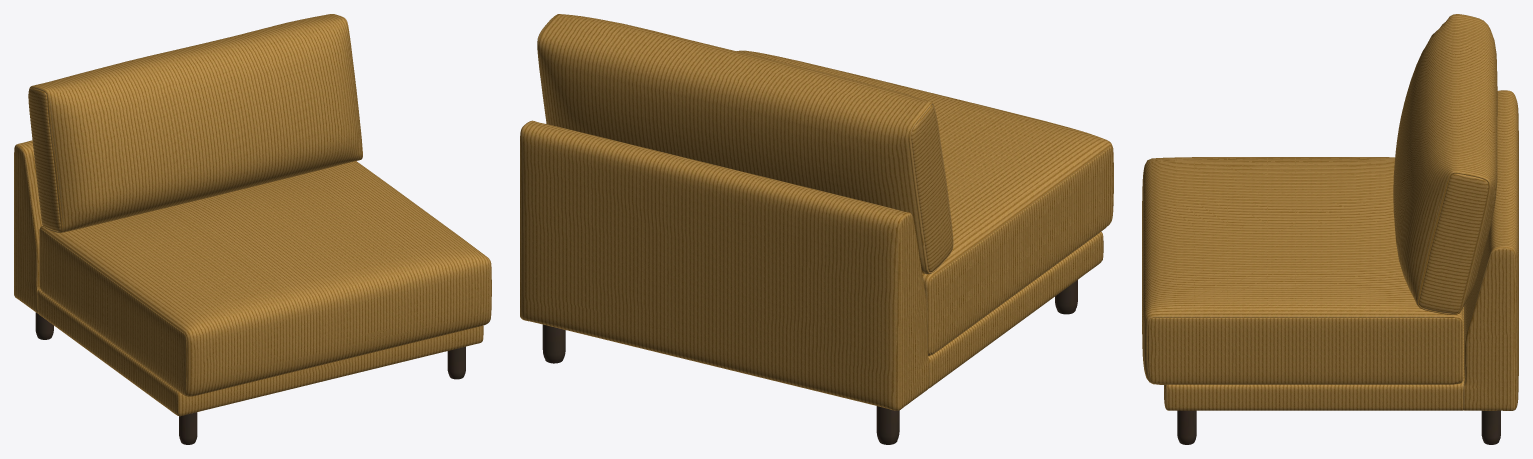
File: 15 - UPPÅKRA 1.5-seat module - Samsala yellow-brown.glb
3 views of the same model, side by side, from view 1: azimuth 30°, elevation 25°; view 2: azimuth 150°, elevation 25°; view 3: azimuth 270°, elevation 25° (orthographic). The views are drawn at different scales.
Visible parts, largest first — view 1: 1109, 1112; view 2: 1109, 1112; view 3: 1109, 1112.
Boxes of the visible parts, left/top/right/bottom form: 1109: left=14, top=14, right=491, bottom=416; 1112: left=35, top=312, right=465, bottom=444; 1109: left=520, top=14, right=1113, bottom=410; 1112: left=542, top=280, right=1077, bottom=444; 1109: left=1142, top=14, right=1518, bottom=410; 1112: left=1177, top=410, right=1500, bottom=444.
Bounding box in the file's own units: 1.1 × 0.9015 × 1.1.
2 materials, 2 textured.
